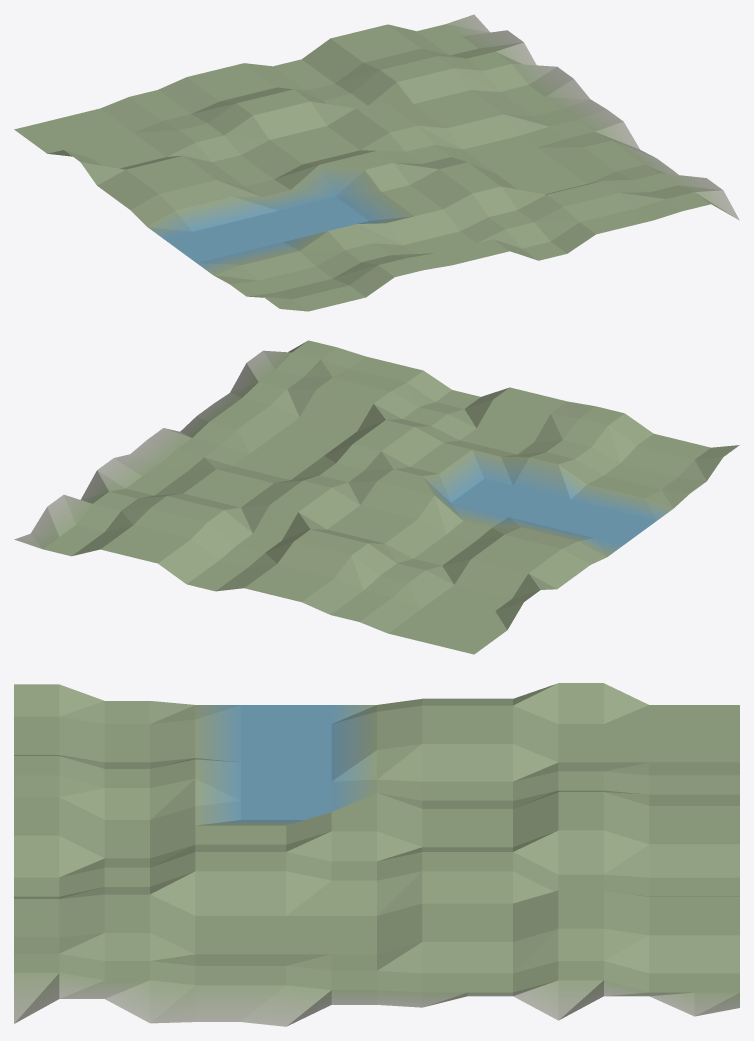
3 renders of one model, top to bottom at view 1: azimuth 30°, elevation 25°; view 2: azimuth 150°, elevation 25°; view 3: azimuth 270°, elevation 25°, orthographic. The views are drawn at different scales.
Size of the model in its own units: 32 by 2.09 by 32.
